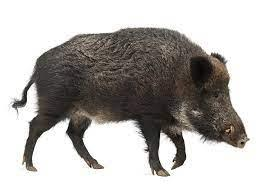wildboar: (8, 25, 251, 178)
